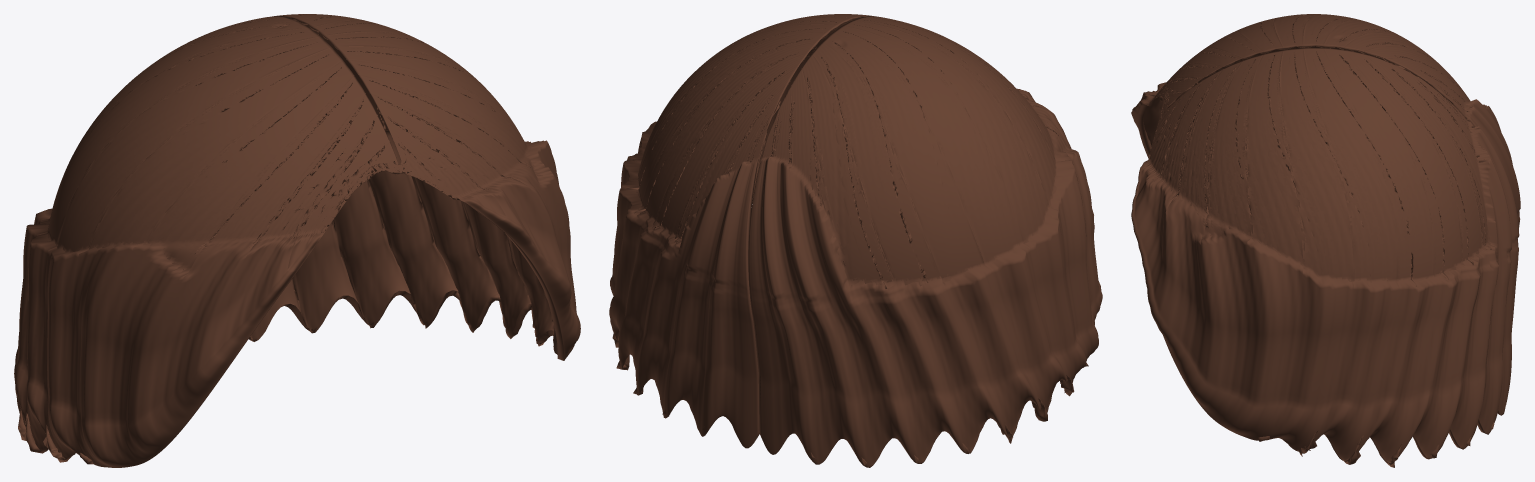
File: Masculine-flow-cap252-hair.glb
3 renders of one model, left to right at view 1: azimuth 30°, elevation 25°; view 2: azimuth 150°, elevation 25°; view 3: azimuth 270°, elevation 25°, orthographic. The views are drawn at different scales.
Parts seen in each view (by area): view 1: 226 hair / Hair252 / flowing sculpt flow.001; view 2: 226 hair / Hair252 / flowing sculpt flow.001; view 3: 226 hair / Hair252 / flowing sculpt flow.001.
Part boxes in pixels (x1=…): 226 hair / Hair252 / flowing sculpt flow.001: x1=14, y1=14, x2=580, y2=467; 226 hair / Hair252 / flowing sculpt flow.001: x1=609, y1=14, x2=1102, y2=467; 226 hair / Hair252 / flowing sculpt flow.001: x1=1131, y1=14, x2=1520, y2=467.
Size of the model in its own units: 1.11 by 0.8393 by 0.8447.
